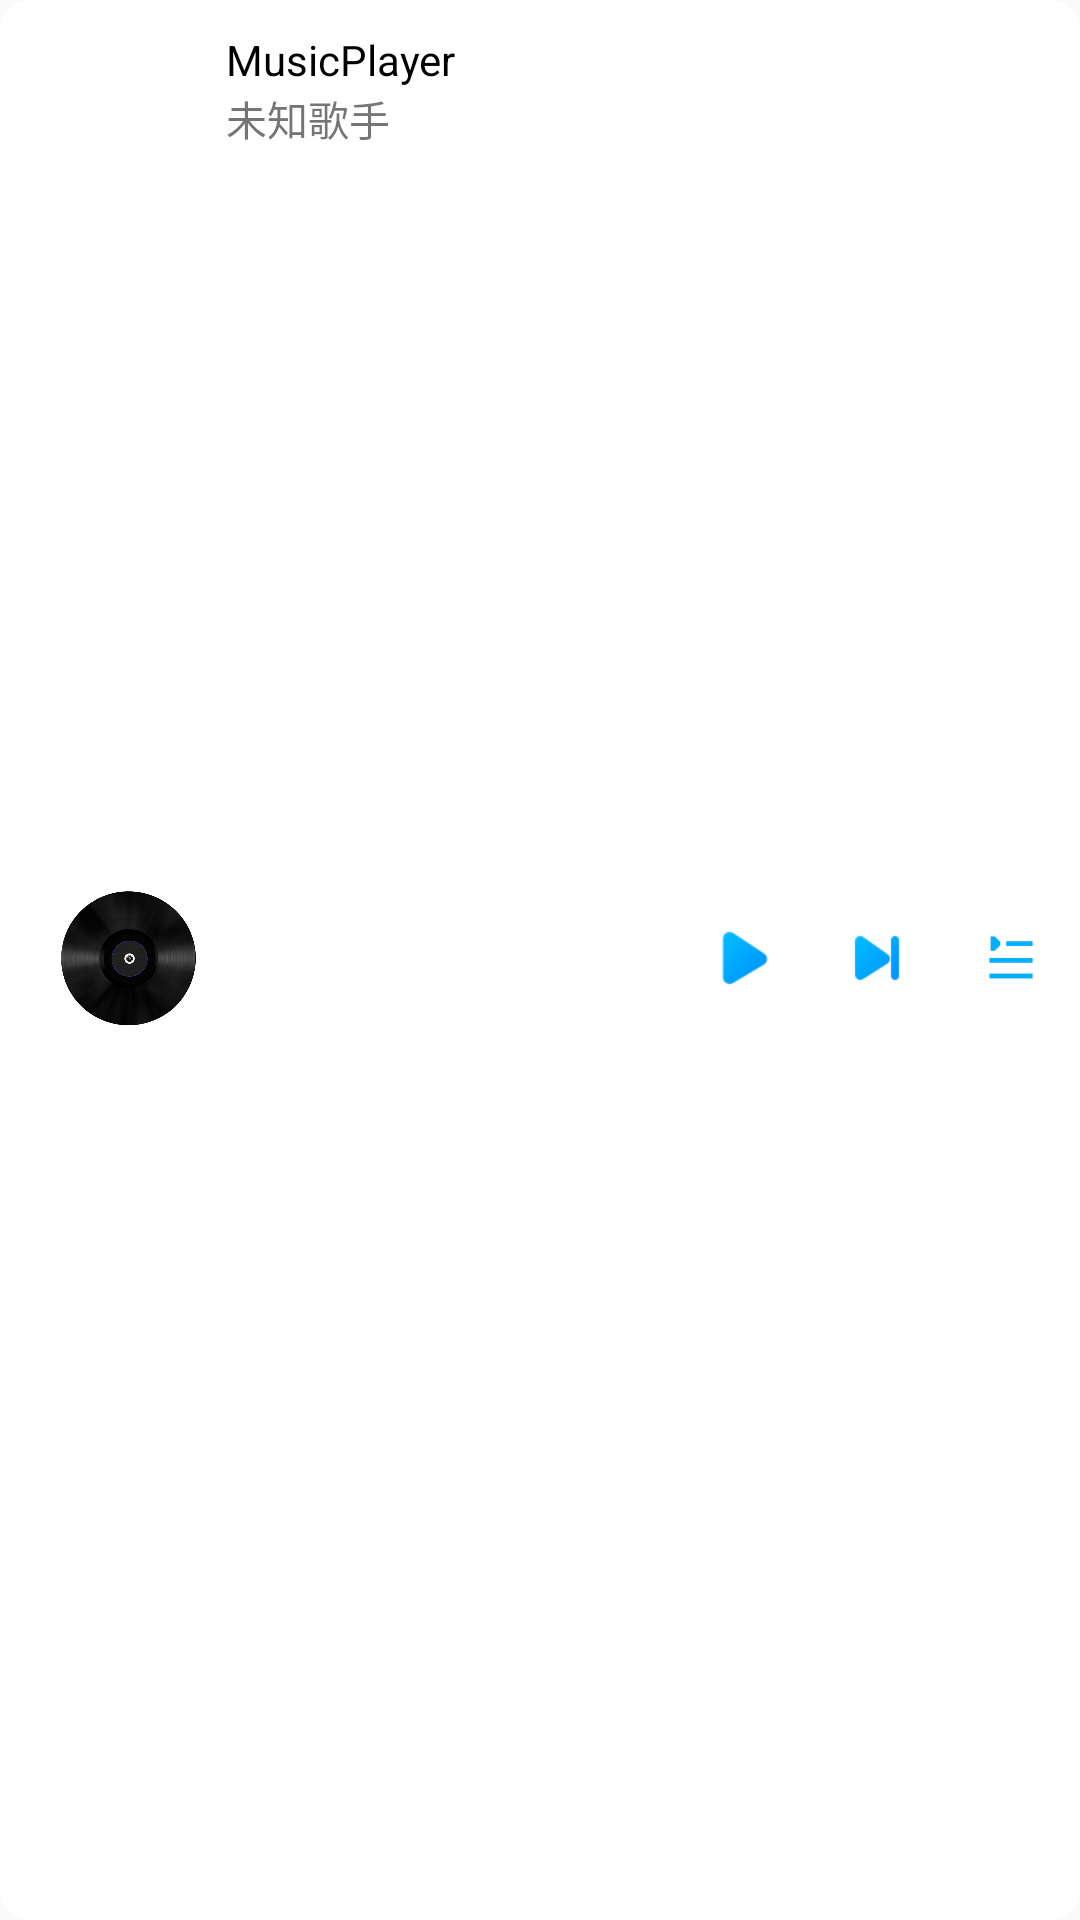

Locate icon controls on the screen. Image size 1080px x 1920px, boxes as {"x1": x1, "y1": y1, "x2": x2, "y2": y2}.
musiclist: {"x1": 989, "y1": 936, "x2": 1033, "y2": 979}
next: {"x1": 854, "y1": 935, "x2": 900, "y2": 981}
play: {"x1": 722, "y1": 931, "x2": 768, "y2": 985}
recode: {"x1": 61, "y1": 891, "x2": 196, "y2": 1025}
